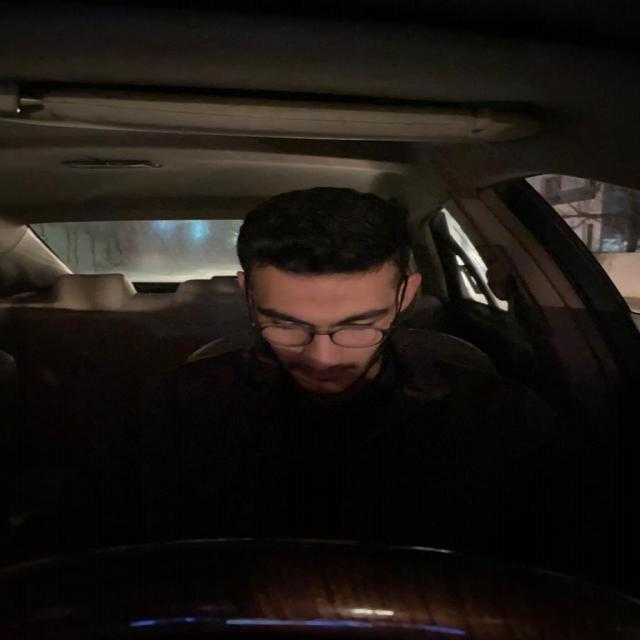drowsy: (229, 190, 426, 406)
